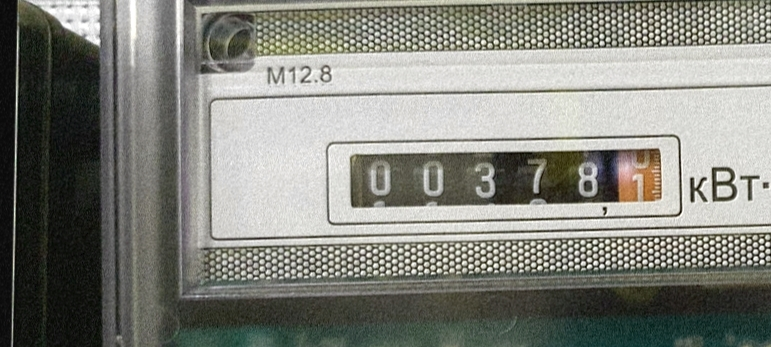0: (364, 159, 392, 200), (417, 160, 443, 200), (626, 150, 649, 172)
1: (625, 173, 645, 205)
3: (468, 162, 495, 203)
7: (521, 158, 545, 197)
8: (572, 161, 597, 201)
screen: (326, 127, 679, 226)
